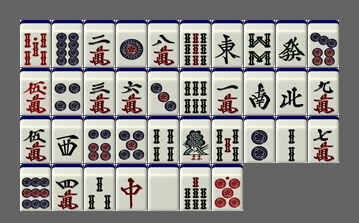0m: (20, 68, 51, 115)
0p: (212, 164, 243, 211)
0s: (20, 20, 51, 67)
1m: (212, 68, 243, 115)
1p: (116, 20, 147, 67)
1s: (180, 116, 211, 163)
1z: (212, 20, 243, 67)
2m: (84, 20, 115, 67)
2p: (244, 116, 275, 163)
2s: (276, 116, 307, 163)
2z: (244, 68, 275, 115)
3m: (84, 68, 115, 115)
3p: (148, 68, 179, 115)
3s: (84, 164, 115, 211)
3z: (52, 116, 83, 163)
4m: (52, 164, 83, 211)
4p: (52, 68, 83, 115)
4s: (148, 116, 179, 163)
4z: (276, 68, 307, 115)
5m: (20, 116, 51, 163)
5p: (116, 116, 147, 163)
5s: (212, 116, 243, 163)
5z: (148, 164, 179, 211)
6m: (116, 68, 147, 115)
6p: (84, 116, 115, 163)
6s: (180, 68, 211, 115)
6z: (276, 20, 307, 67)
7m: (308, 116, 339, 163)
7p: (308, 20, 339, 67)
7s: (180, 164, 211, 211)
7z: (116, 164, 147, 211)
8m: (148, 20, 179, 67)
8p: (52, 20, 83, 67)
8s: (244, 20, 275, 67)
9m: (308, 68, 339, 115)
9p: (20, 164, 51, 211)
9s: (180, 20, 211, 67)
